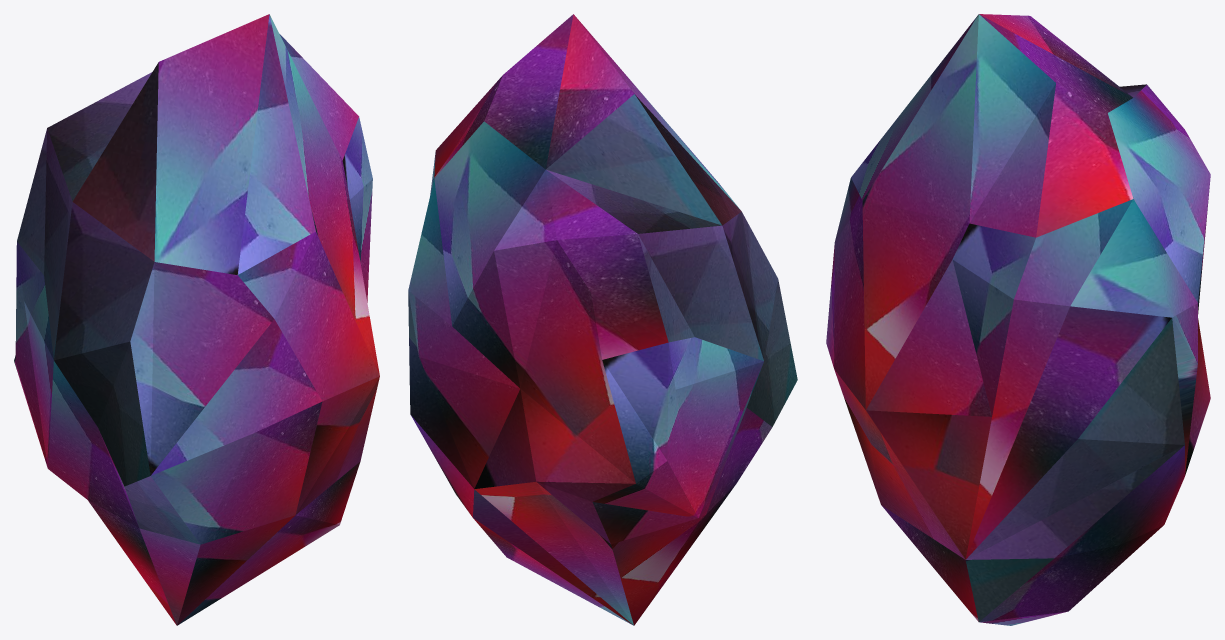
File: crystal_beta_2.glb
The picture shows the model from 3 angles, left to right: view 1: azimuth 30°, elevation 25°; view 2: azimuth 150°, elevation 25°; view 3: azimuth 270°, elevation 25°; orthographic projection. The views are drawn at different scales.
Visible parts, largest first — view 1: Crystal_Edit; view 2: Crystal_Edit; view 3: Crystal_Edit.
Part boxes in pixels (<box>): Crystal_Edit: <box>14,14,379,625</box>; Crystal_Edit: <box>408,14,797,625</box>; Crystal_Edit: <box>826,14,1210,625</box>.
Size of the model in its own units: 3.16 by 5.59 by 2.98.
1 material, 1 textured.
